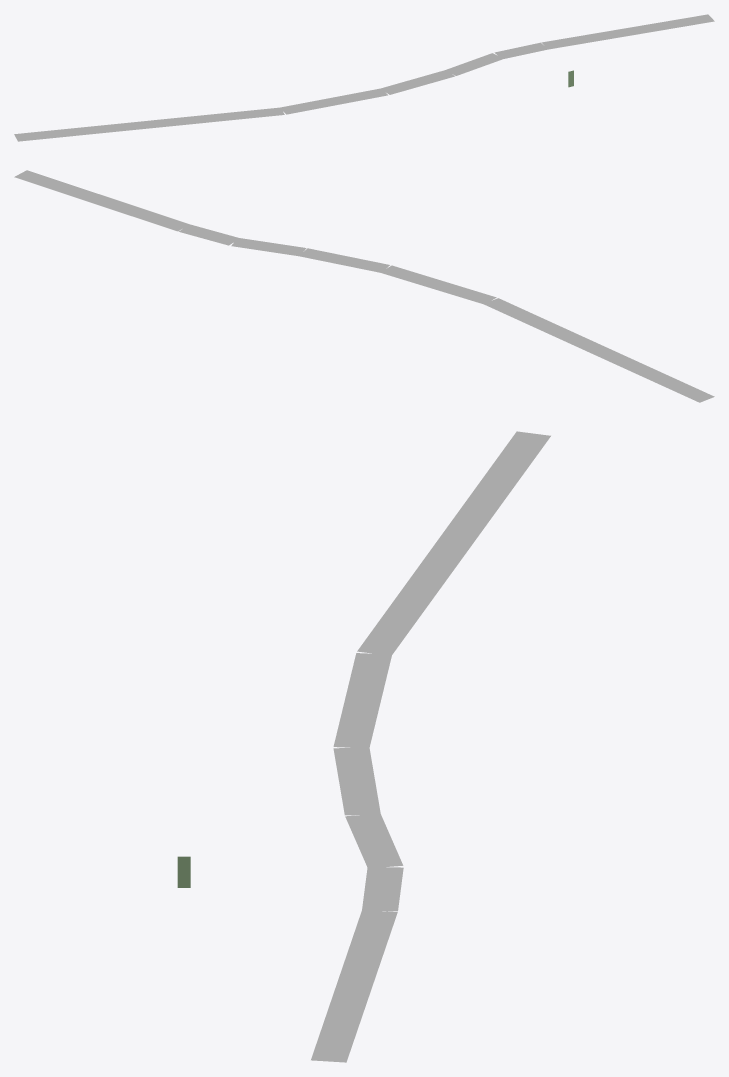
The picture shows the model from 3 angles, top to bottom: view 1: azimuth 30°, elevation 25°; view 2: azimuth 150°, elevation 25°; view 3: azimuth 270°, elevation 25°; orthographic projection. The views are drawn at different scales.
Bounding box in the file's own units: 290 × 7.16 × 72.38.
